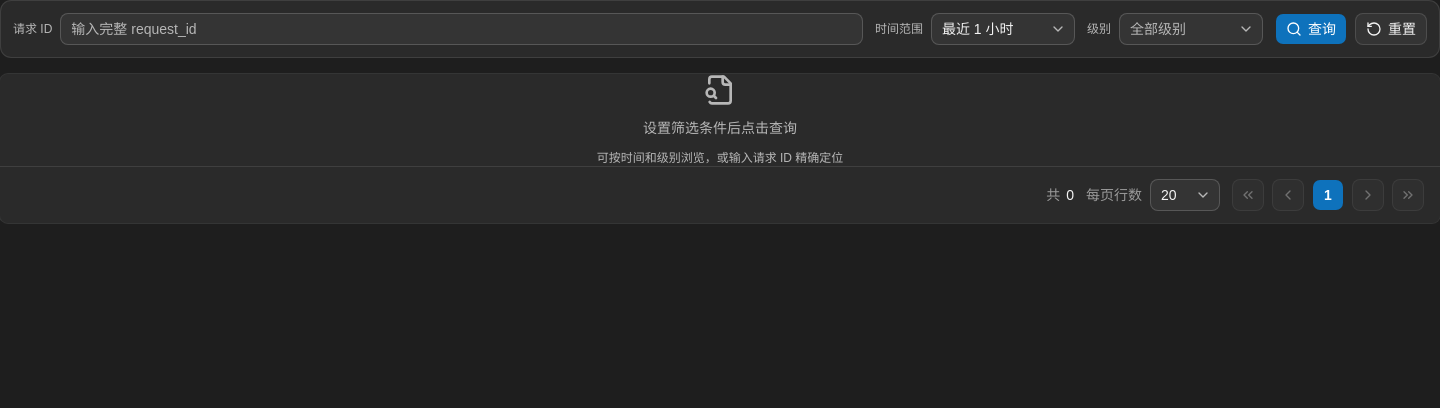
Test case: 首次查询失败时显示重新读取入口，重试成功后显示日志
Type "request-1" into the field named "request_id" at point(462, 29), box top-left (60, 13), bottom-right (863, 45)
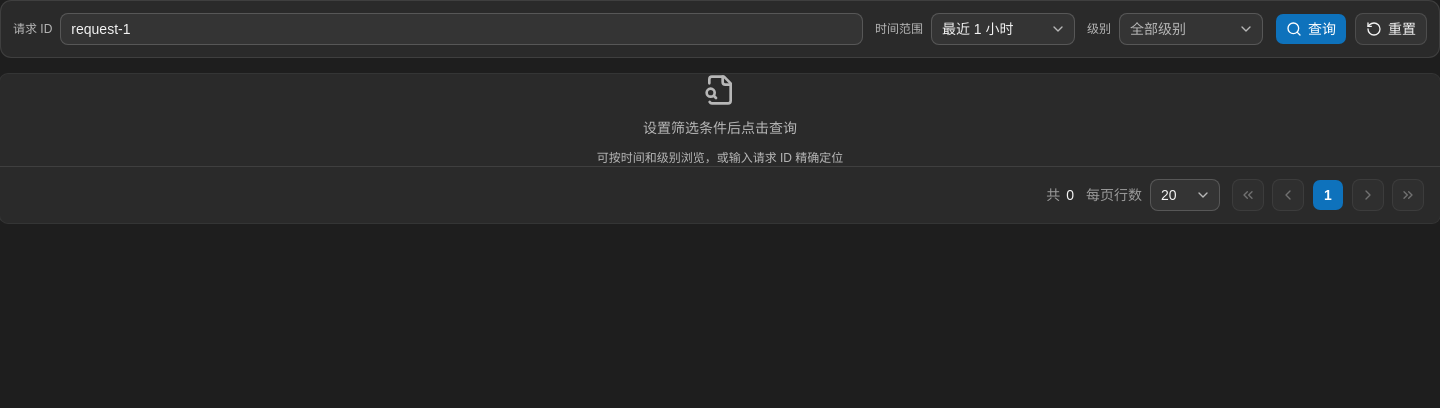
Click the button "查询" at point(1311, 29), box top-left (1275, 13), bottom-right (1347, 45)
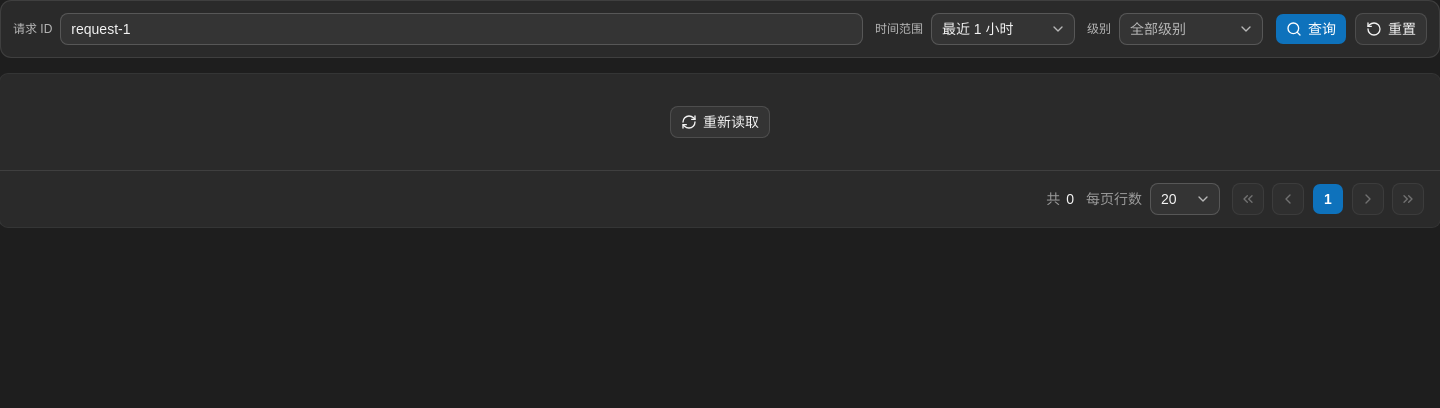
Click the button "重新读取" at point(720, 122), box top-left (670, 106), bottom-right (770, 138)
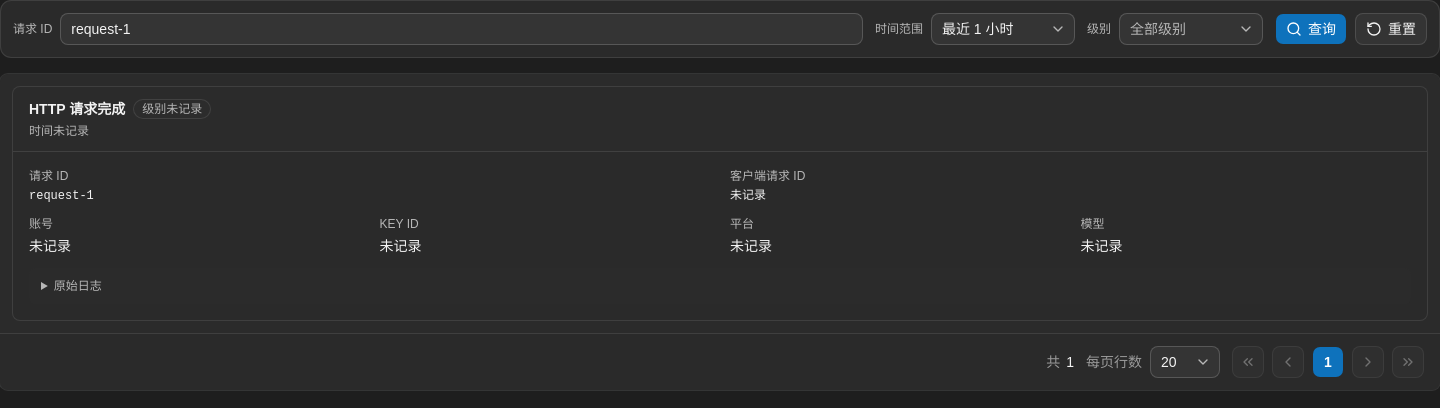
Check: the text "request-1" is shown, box top-left (29, 189), bottom-right (94, 203)
Check: the button "重新读取" is gone
